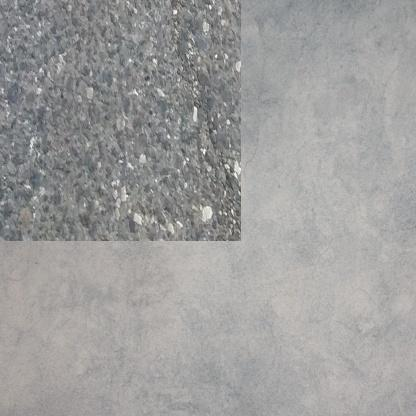Cracks: (168, 52, 220, 183)
